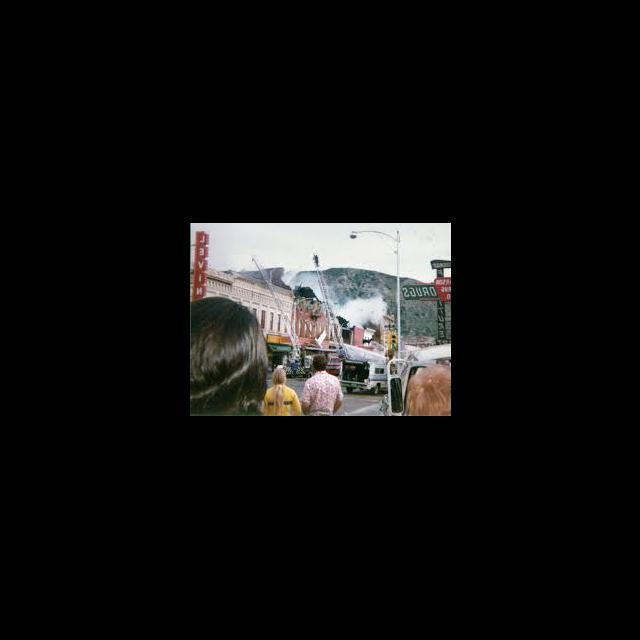Smoke: (344, 295, 386, 323)
